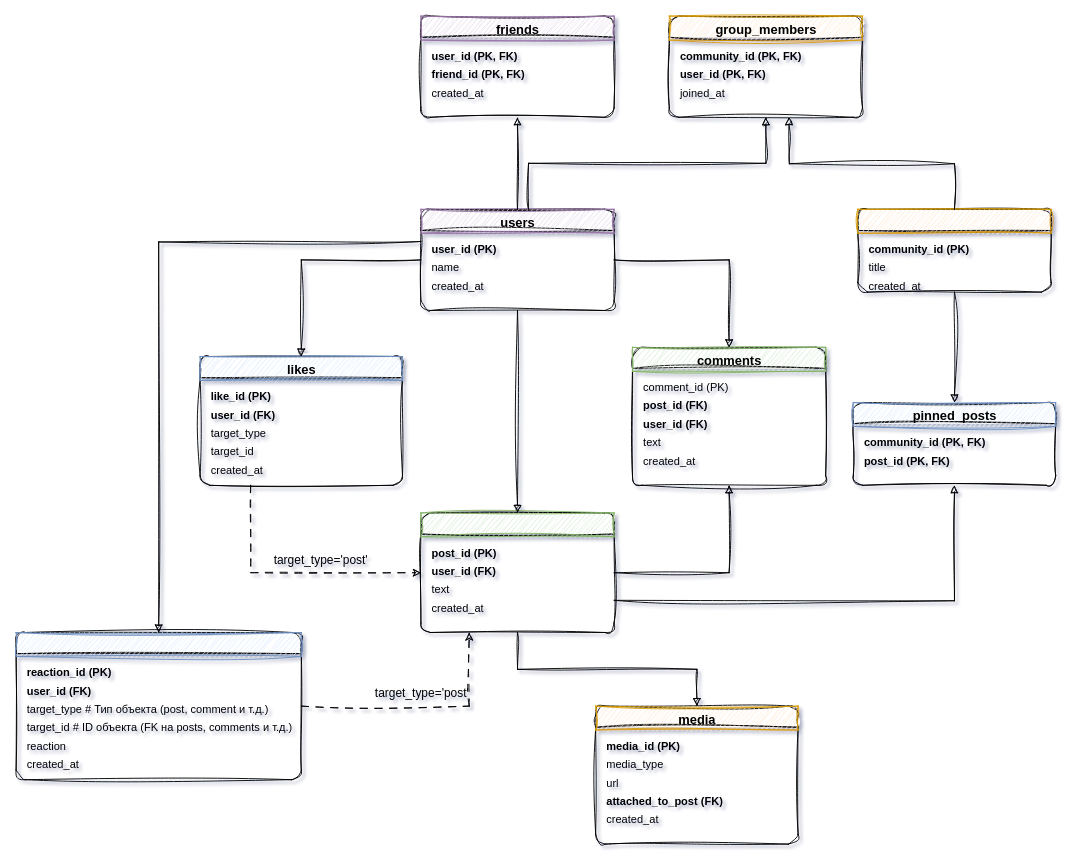
The diagram is 1077 pixels wide and 866 high, and some of its shapes have lost their labels. Here are the shapes that lost their labels. From the top down, the centre of each, then its label:
At point 954,220: "communities".
At point 517,524: "posts".
At point 158,644: "reactions".
